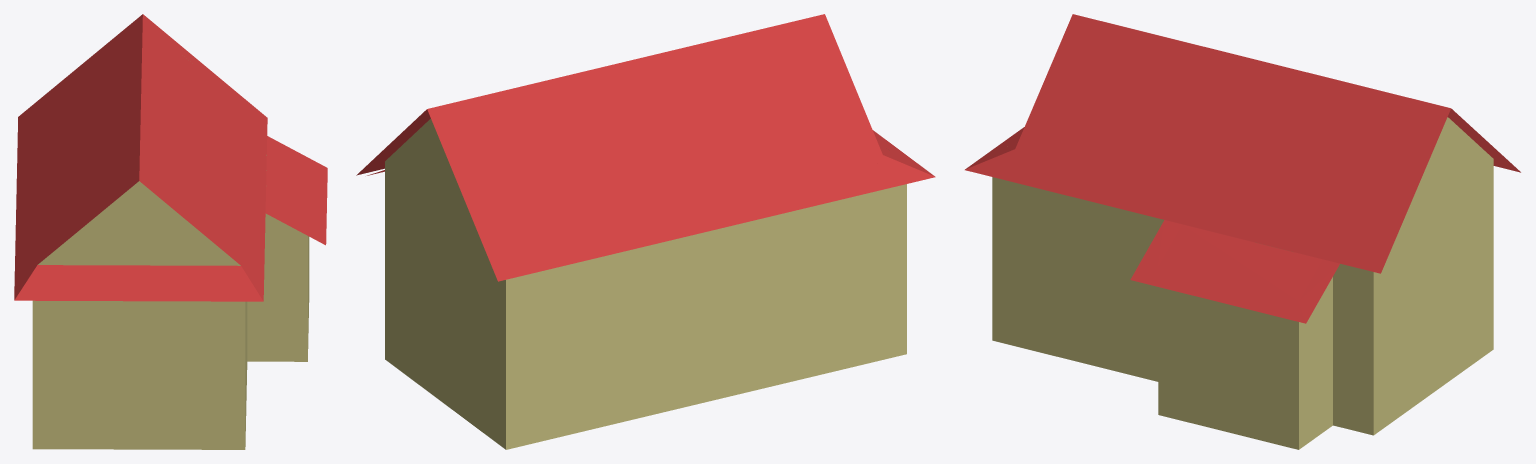
3 views of the same model, side by side, from view 1: azimuth 30°, elevation 25°; view 2: azimuth 150°, elevation 25°; view 3: azimuth 270°, elevation 25° (orthographic). The views are drawn at different scales.
Bounding box in the file's own units: 18.99 × 20.41 × 11.66.
